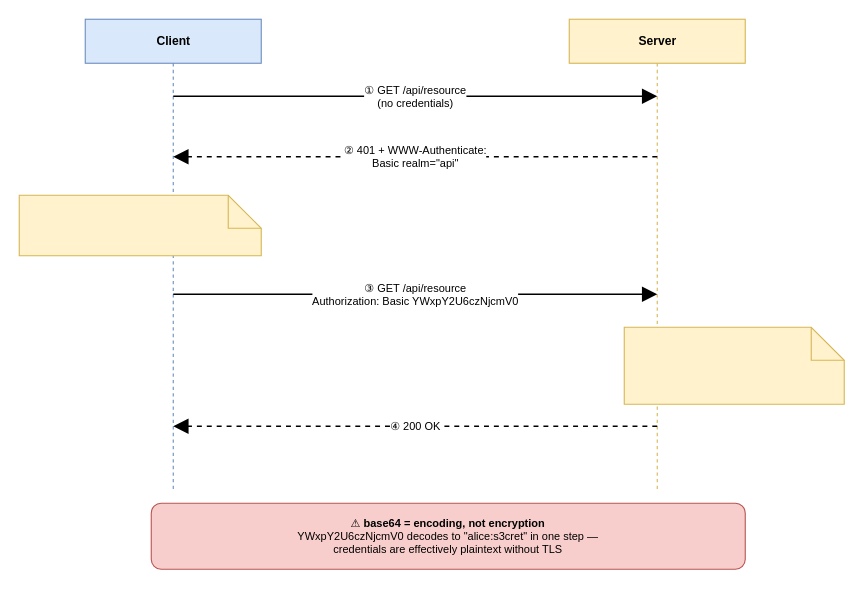
Some shapes in this 864 by 589 pixel diagram are drawn without their labels. Here are the shapes that lost their labels. From the top down, the centre of each, then its label:
At pixel 139 225: "client collects user:pass → base64(user:pass)".
At pixel 733 365: "base64-decode → constant-time compare against hashed password".
